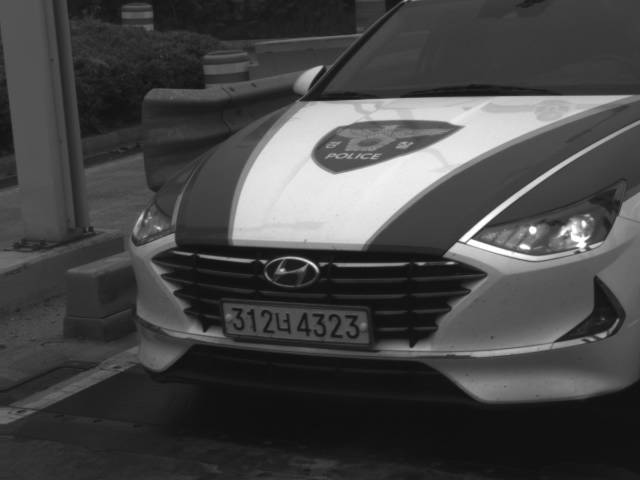car: (125, 1, 639, 427)
plate: (220, 297, 373, 347)
